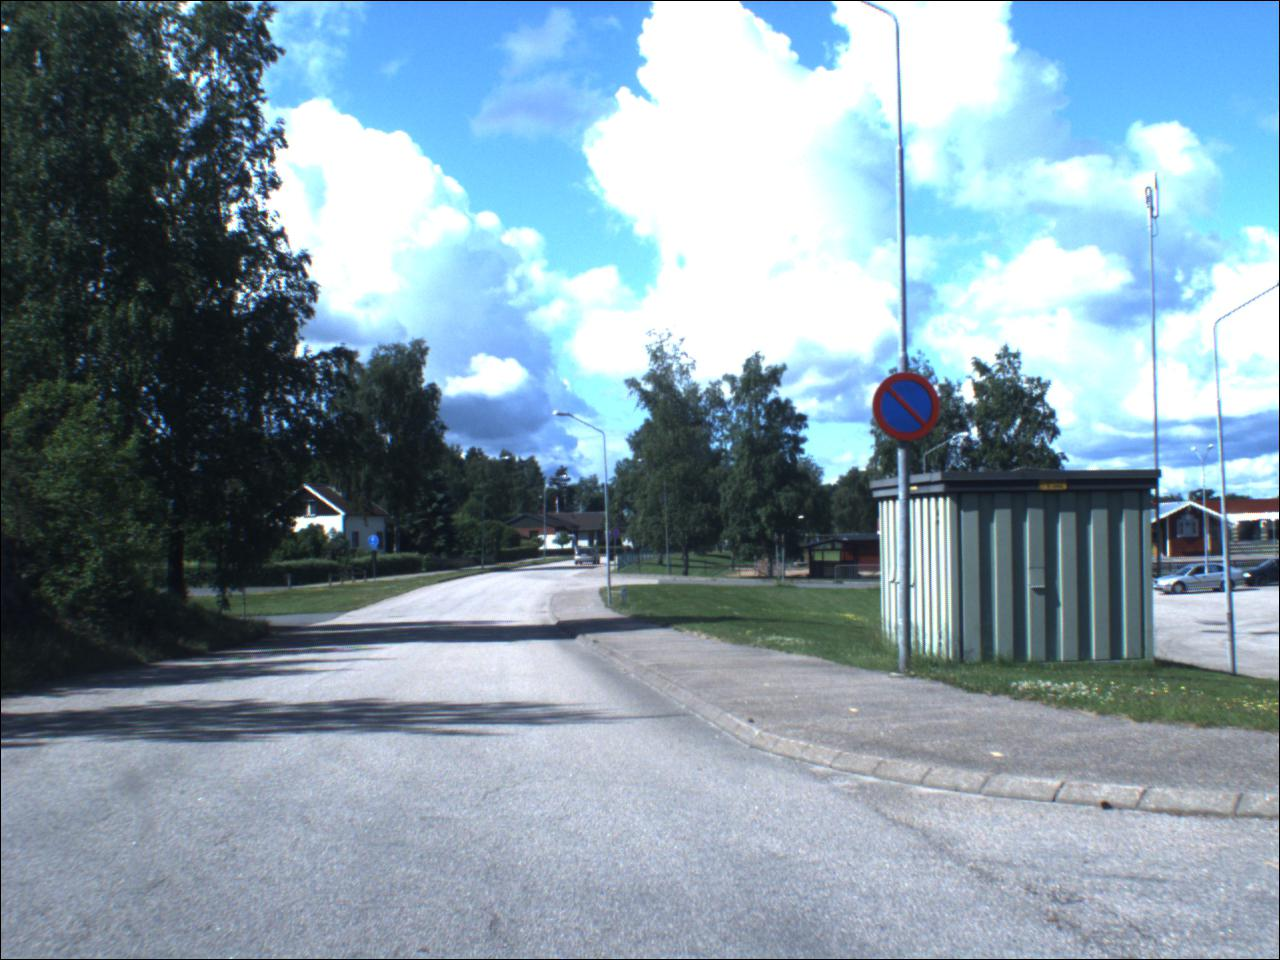NO_PARKING: (874, 373, 944, 444)
